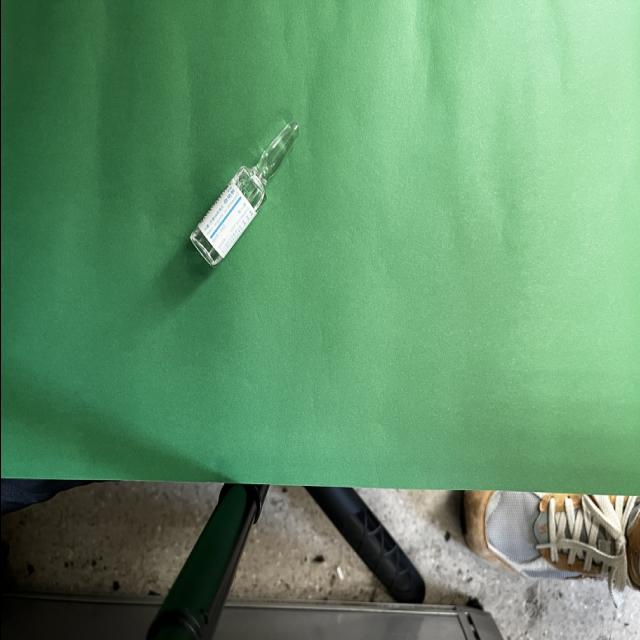Ampoules: (188, 122, 298, 267)
